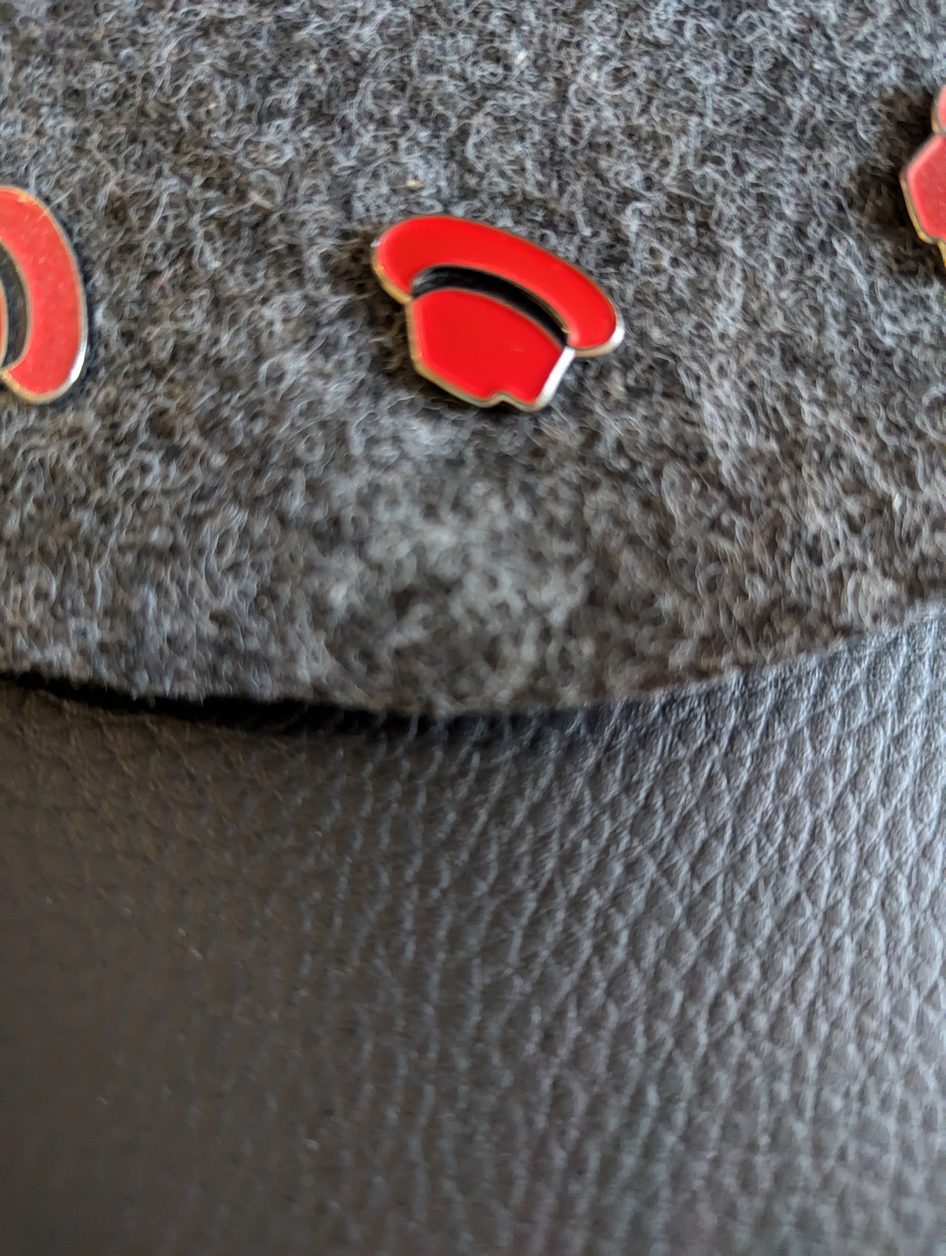Red-Hat: (305, 115, 693, 517), (0, 130, 103, 435)
